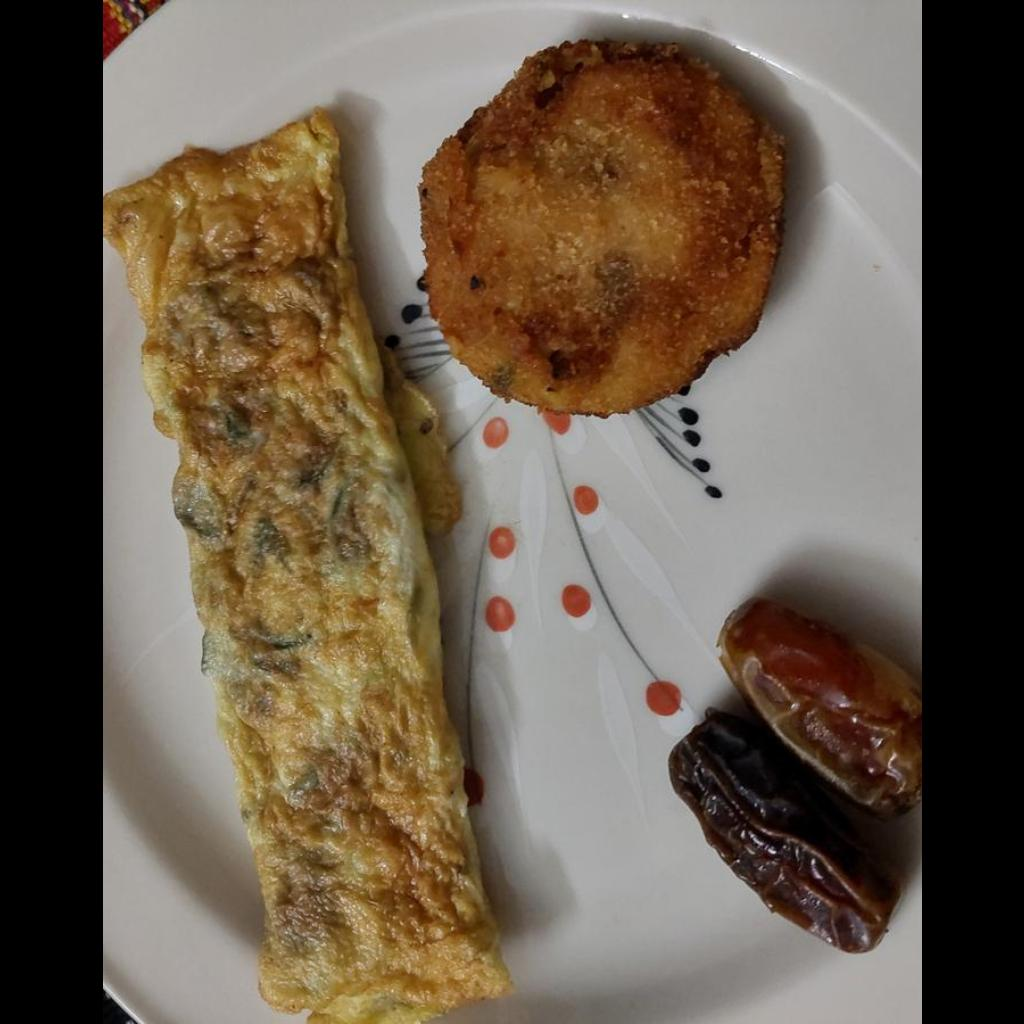dates: (666, 600, 920, 953)
egg-poached: (102, 110, 507, 1017)
kabab: (420, 44, 773, 417)
